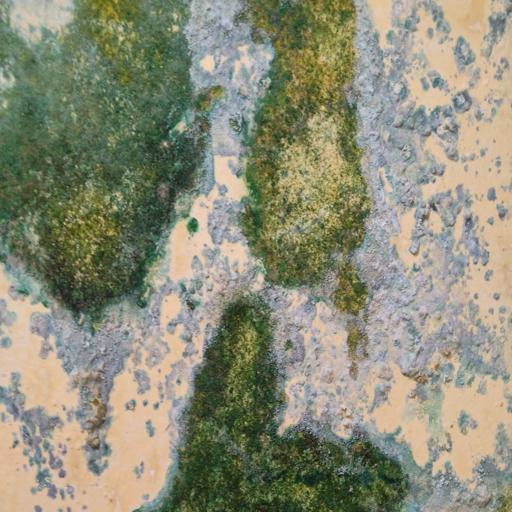algae: (0, 0, 442, 509)
